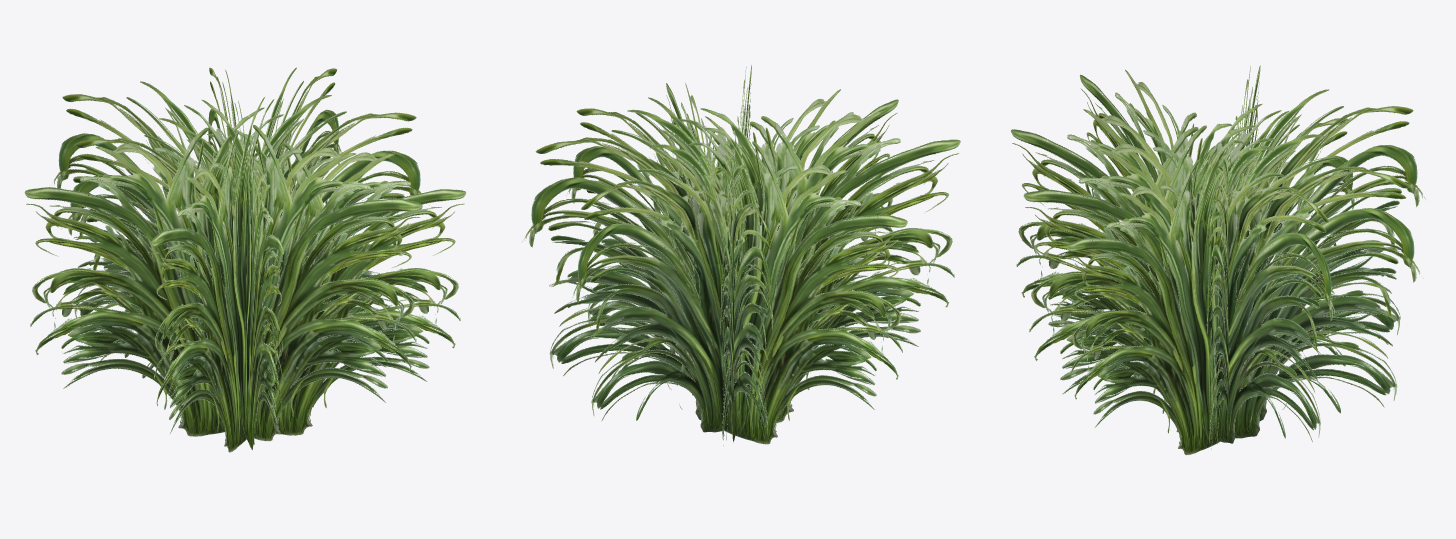
File: grass_2.glb
3 views of the same model, side by side, from view 1: azimuth 30°, elevation 25°; view 2: azimuth 150°, elevation 25°; view 3: azimuth 270°, elevation 25° (orthographic). The views are drawn at different scales.
Visible parts, largest first — view 1: Leaves; view 2: Leaves; view 3: Leaves.
Part boxes in pixels (box(x1,y1,x2,y2)): Leaves: box(24, 67, 466, 452); Leaves: box(522, 65, 960, 445); Leaves: box(1011, 65, 1425, 455).
Bounding box in the file's own units: 0.7789 × 0.6193 × 0.743.
Materials: 1 (1 with a texture image).
